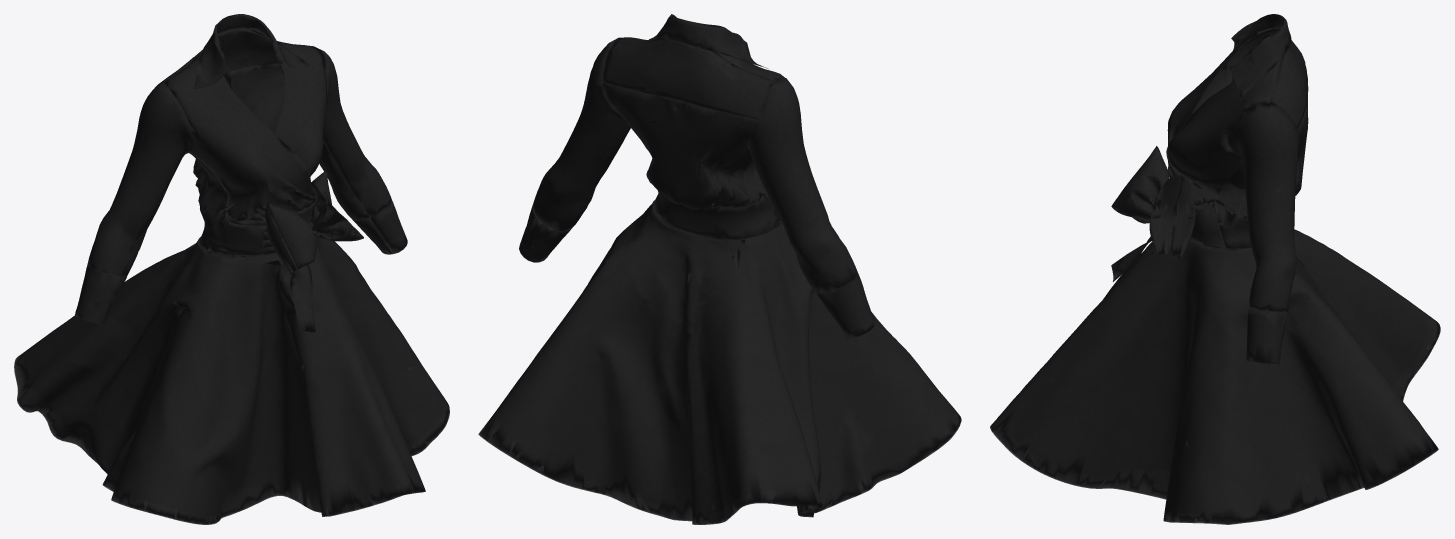
The model's file is black_dress.glb.
3 renders of one model, left to right at view 1: azimuth 30°, elevation 25°; view 2: azimuth 150°, elevation 25°; view 3: azimuth 270°, elevation 25°, orthographic. The views are drawn at different scales.
Visible parts, largest first — view 1: black_dress; view 2: black_dress; view 3: black_dress.
Boxes of the visible parts, x1,y1,x2,y2 form: black_dress: (14, 14, 449, 524); black_dress: (478, 14, 961, 524); black_dress: (990, 14, 1440, 524).
Size of the model in its own units: 0.8776 by 1.03 by 0.9284.
1 material, 1 textured.
